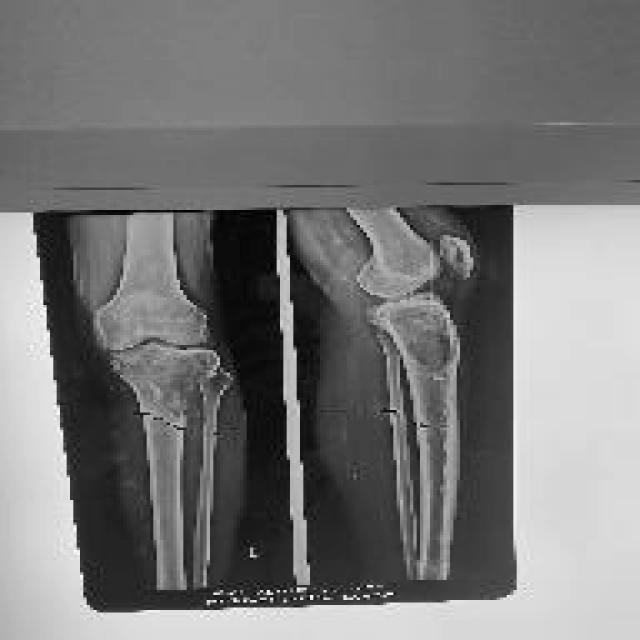bone-cancer: (122, 348, 228, 424), (375, 294, 458, 369)
